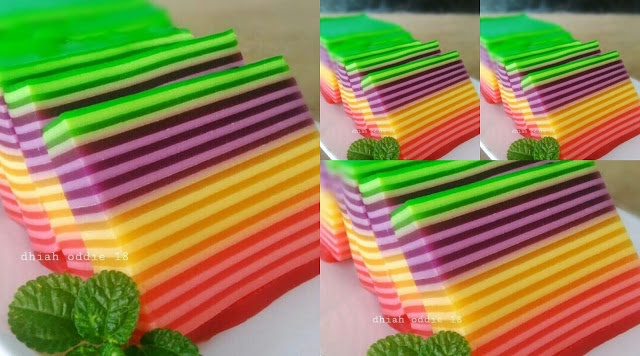kue_lapis_pelangi: (42, 55, 319, 350), (390, 160, 640, 355), (520, 51, 640, 160), (359, 50, 479, 159)
